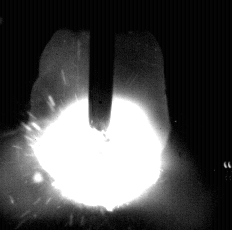arame: (89, 0, 113, 131)
poca: (29, 0, 166, 230)
